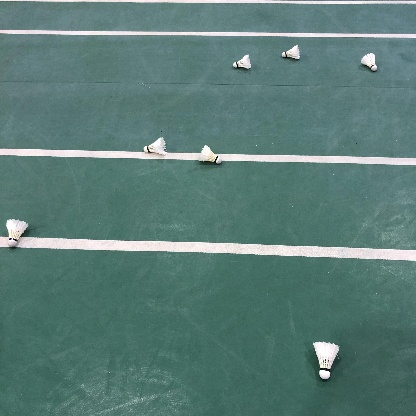ball_single: (313, 342, 339, 379), (6, 219, 28, 247), (199, 145, 222, 164), (144, 137, 167, 155), (361, 53, 377, 71), (233, 54, 252, 69), (282, 45, 300, 59)
